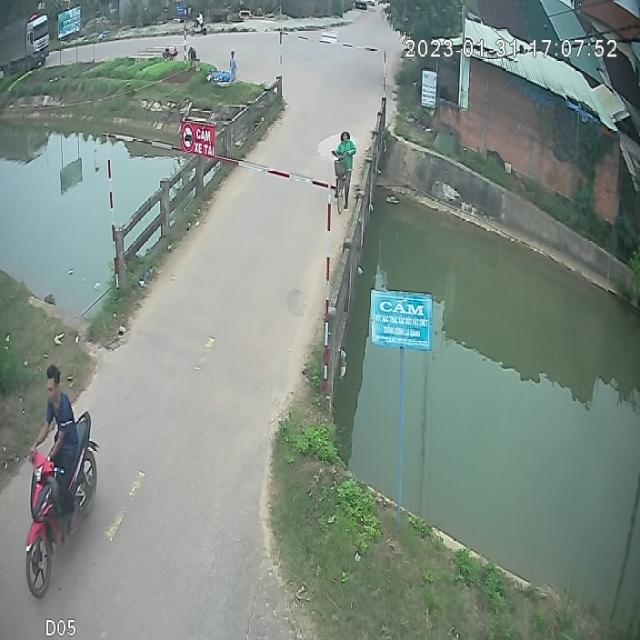without_helmet: (38, 360, 66, 406), (338, 122, 353, 154)
